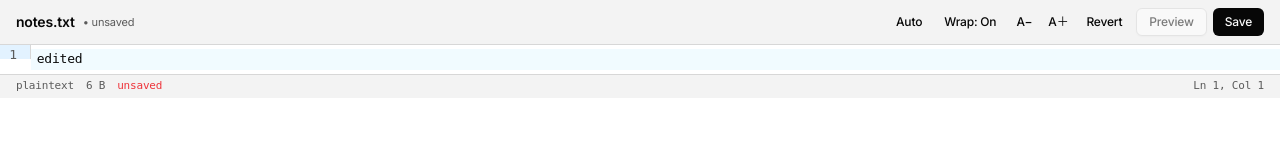
Scenario: FileTextEditor › save conflicts › surfaces a conflict instead of a plain error
The image size is (1280, 164).
Click the button "Save" at {"x": 1238, "y": 22}, box 1213,8 -> 1264,36
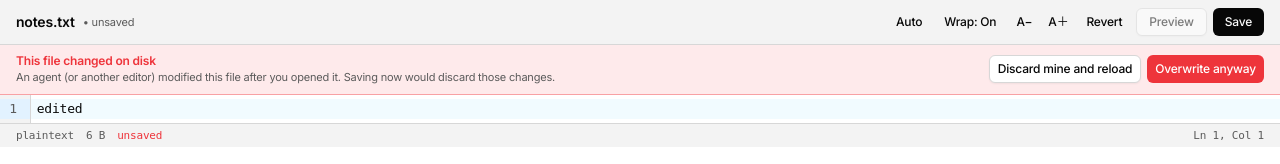
Expected: the text "unsaved" is shown, 83,15 -> 134,29
Expected: the text "changed on disk" is shown, 16,53 -> 156,68
